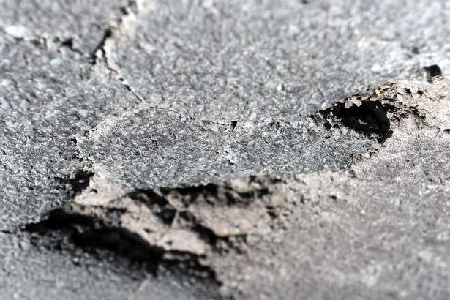pothole: (16, 161, 319, 298), (310, 65, 449, 151)
